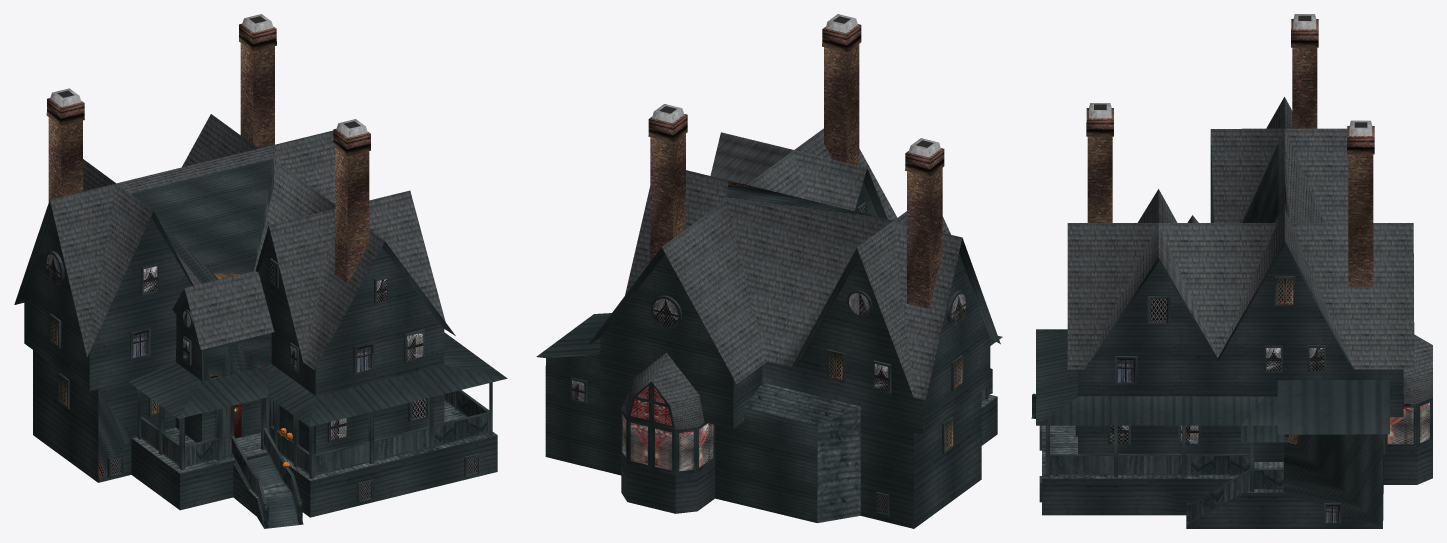
The picture shows the model from 3 angles, left to right: view 1: azimuth 30°, elevation 25°; view 2: azimuth 150°, elevation 25°; view 3: azimuth 270°, elevation 25°; orthographic projection. The views are drawn at different scales.
Visible parts, largest first — view 1: Cubo; view 2: Cubo; view 3: Cubo.
Boxes of the visible parts, x1,y1,x2,y2 form: Cubo: (14, 14, 507, 528); Cubo: (536, 14, 1002, 528); Cubo: (1031, 14, 1432, 528).
Bounding box in the file's own units: 2057 × 1931 × 1999.
1 material, 1 textured.
